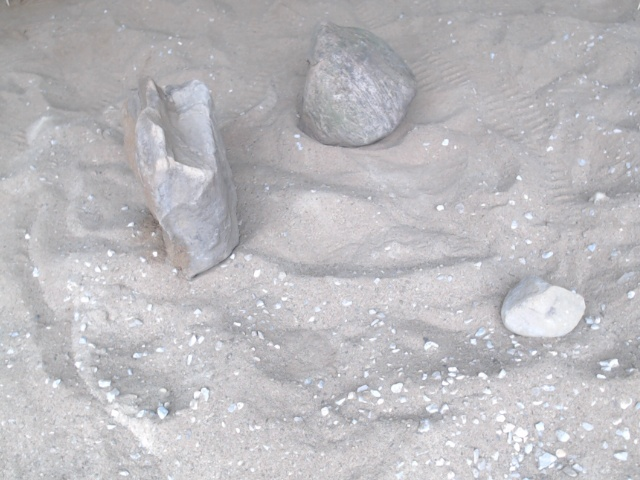rock: (118, 73, 248, 284), (290, 17, 422, 154), (495, 271, 590, 343)
